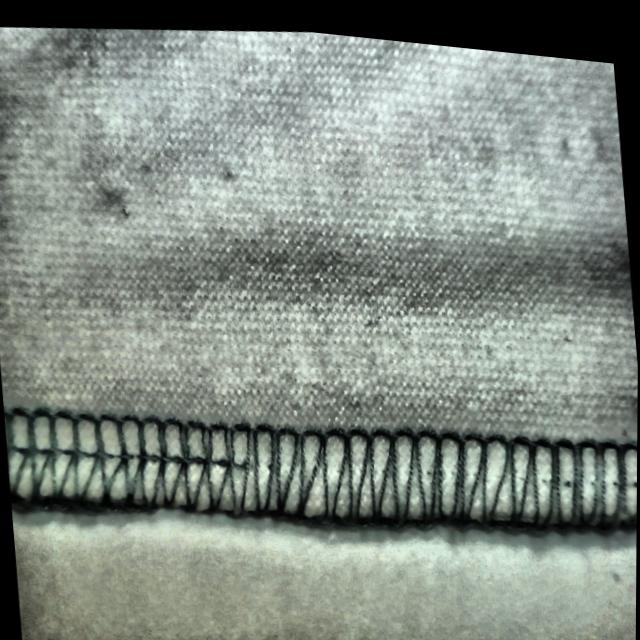Stitch: (4, 373, 437, 560)
